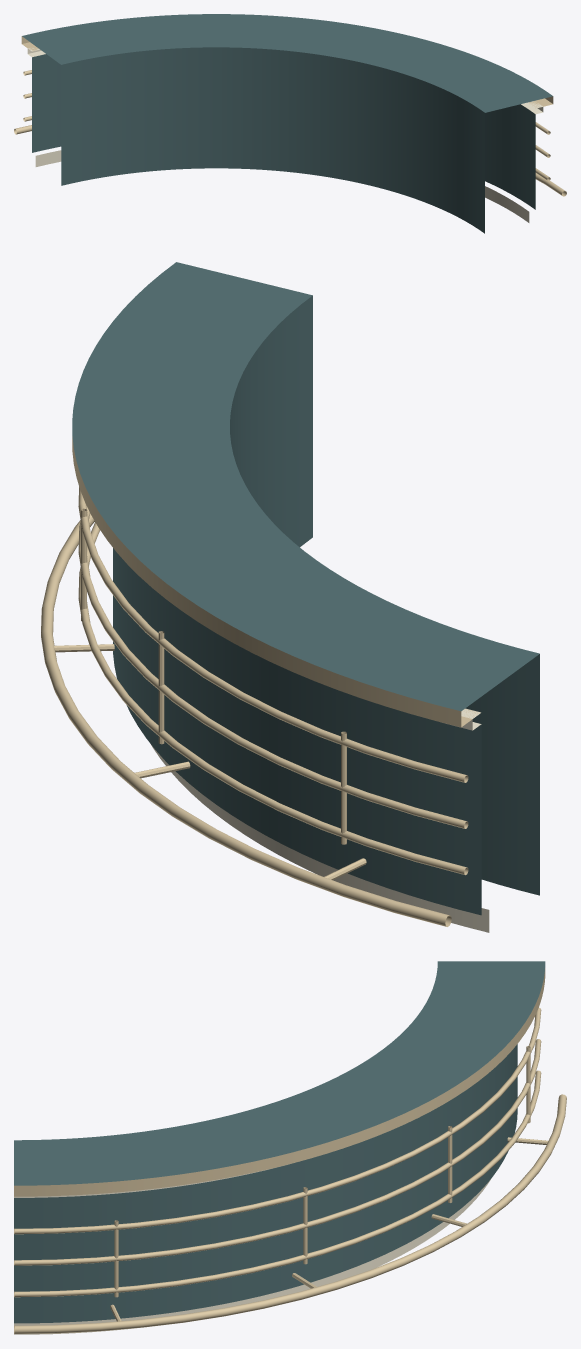
Rendered from KC32__AD_Int_Bar_Curve.glb.
3 views of the same model, one above another, from view 1: azimuth 30°, elevation 25°; view 2: azimuth 150°, elevation 25°; view 3: azimuth 270°, elevation 25° (orthographic). The views are drawn at different scales.
Parts seen in each view (by area): view 1: KC32_CORPS__AD_Int_Bar_Curve, KC32_LUMIERE__AD_Int_Bar_Curve, KC32_BRONZE__AD_Int_Bar_Curve; view 2: KC32_CORPS__AD_Int_Bar_Curve, KC32_BRONZE__AD_Int_Bar_Curve, KC32_LUMIERE__AD_Int_Bar_Curve; view 3: KC32_CORPS__AD_Int_Bar_Curve, KC32_BRONZE__AD_Int_Bar_Curve, KC32_LUMIERE__AD_Int_Bar_Curve.
Part boxes in pixels (bbox=[...]): KC32_CORPS__AD_Int_Bar_Curve: bbox=[22, 14, 552, 233]; KC32_LUMIERE__AD_Int_Bar_Curve: bbox=[27, 48, 543, 222]; KC32_BRONZE__AD_Int_Bar_Curve: bbox=[14, 36, 566, 196]; KC32_CORPS__AD_Int_Bar_Curve: bbox=[72, 262, 539, 915]; KC32_BRONZE__AD_Int_Bar_Curve: bbox=[41, 436, 480, 926]; KC32_LUMIERE__AD_Int_Bar_Curve: bbox=[151, 708, 489, 932]; KC32_CORPS__AD_Int_Bar_Curve: bbox=[14, 961, 545, 1323]; KC32_BRONZE__AD_Int_Bar_Curve: bbox=[14, 968, 566, 1333]; KC32_LUMIERE__AD_Int_Bar_Curve: bbox=[14, 1164, 491, 1334].
Size of the model in its own units: 3.18 by 1.05 by 3.18.
